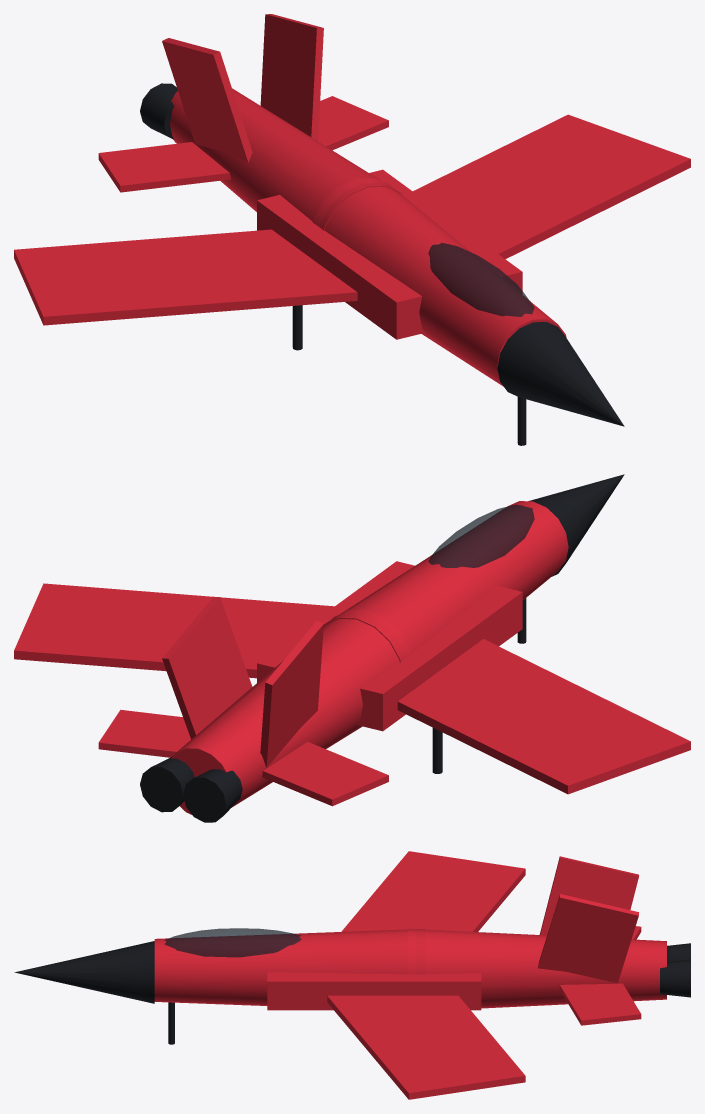
File: plane_jet.glb
The picture shows the model from 3 angles, top to bottom: view 1: azimuth 30°, elevation 25°; view 2: azimuth 150°, elevation 25°; view 3: azimuth 270°, elevation 25°; orthographic projection. The views are drawn at different scales.
Parts seen in each view (by area): view 1: plane_jet; view 2: plane_jet; view 3: plane_jet.
Boxes of the visible parts, bbox=[...] form: plane_jet: bbox=[14, 14, 690, 445]; plane_jet: bbox=[14, 474, 690, 822]; plane_jet: bbox=[14, 851, 690, 1099].
Size of the model in its own units: 10.18 by 3.28 by 12.03.
